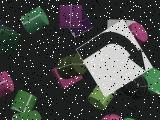Right: (76, 19, 152, 97)
